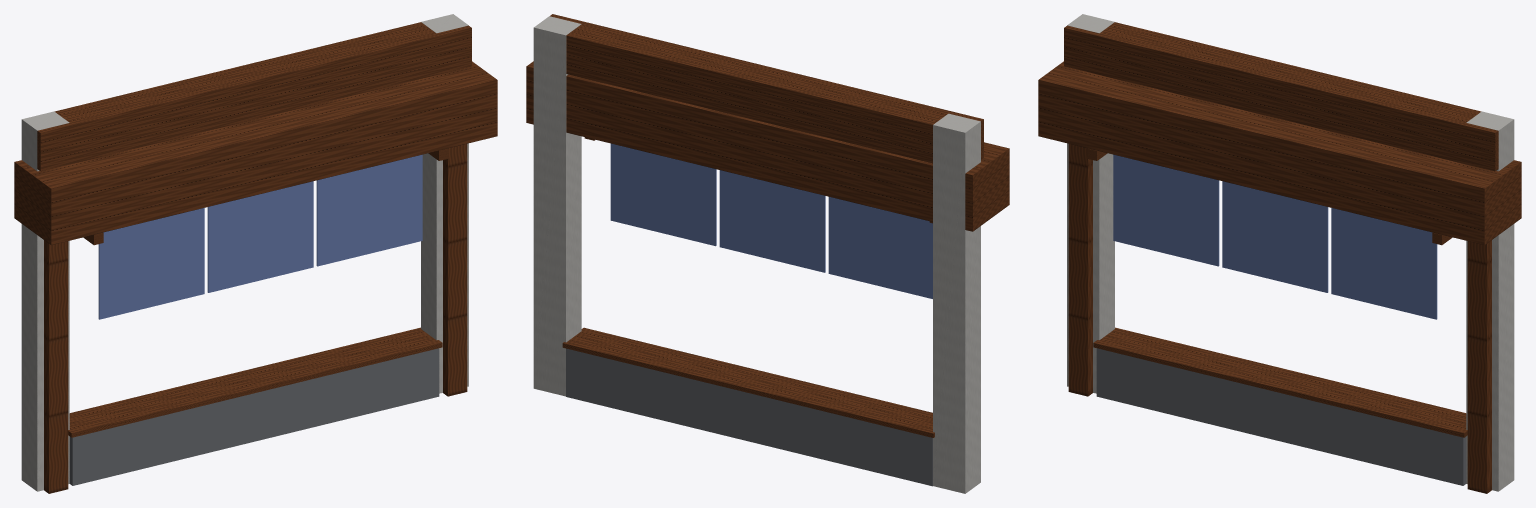
The model's file is ramen_shop_front_bay.glb.
3 renders of one model, left to right at view 1: azimuth 30°, elevation 25°; view 2: azimuth 150°, elevation 25°; view 3: azimuth 330°, elevation 25°, orthographic.
Visible parts, largest first — view 1: ramen-shop-front-bay-darkwood, ramen-shop-front-bay-indigo, ramen-shop-front-bay-charcoal, ramen-shop-front-bay-concrete; view 2: ramen-shop-front-bay-darkwood, ramen-shop-front-bay-concrete, ramen-shop-front-bay-indigo, ramen-shop-front-bay-charcoal; view 3: ramen-shop-front-bay-darkwood, ramen-shop-front-bay-indigo, ramen-shop-front-bay-charcoal, ramen-shop-front-bay-concrete.
Boxes of the visible parts, <box> form: ramen-shop-front-bay-darkwood: <box>14,22,497,493</box>; ramen-shop-front-bay-indigo: <box>98,154,422,319</box>; ramen-shop-front-bay-charcoal: <box>69,348,439,485</box>; ramen-shop-front-bay-concrete: <box>21,14,468,491</box>; ramen-shop-front-bay-darkwood: <box>526,14,1009,437</box>; ramen-shop-front-bay-concrete: <box>533,16,980,493</box>; ramen-shop-front-bay-indigo: <box>610,143,932,298</box>; ramen-shop-front-bay-charcoal: <box>566,348,932,486</box>; ramen-shop-front-bay-darkwood: <box>1038,22,1521,493</box>; ramen-shop-front-bay-indigo: <box>1113,154,1437,319</box>; ramen-shop-front-bay-charcoal: <box>1096,348,1466,485</box>; ramen-shop-front-bay-concrete: <box>1067,14,1514,491</box>.
Size of the model in its own units: 4.14 by 3.2 by 0.6151.
Materials: 6 (2 with a texture image).
